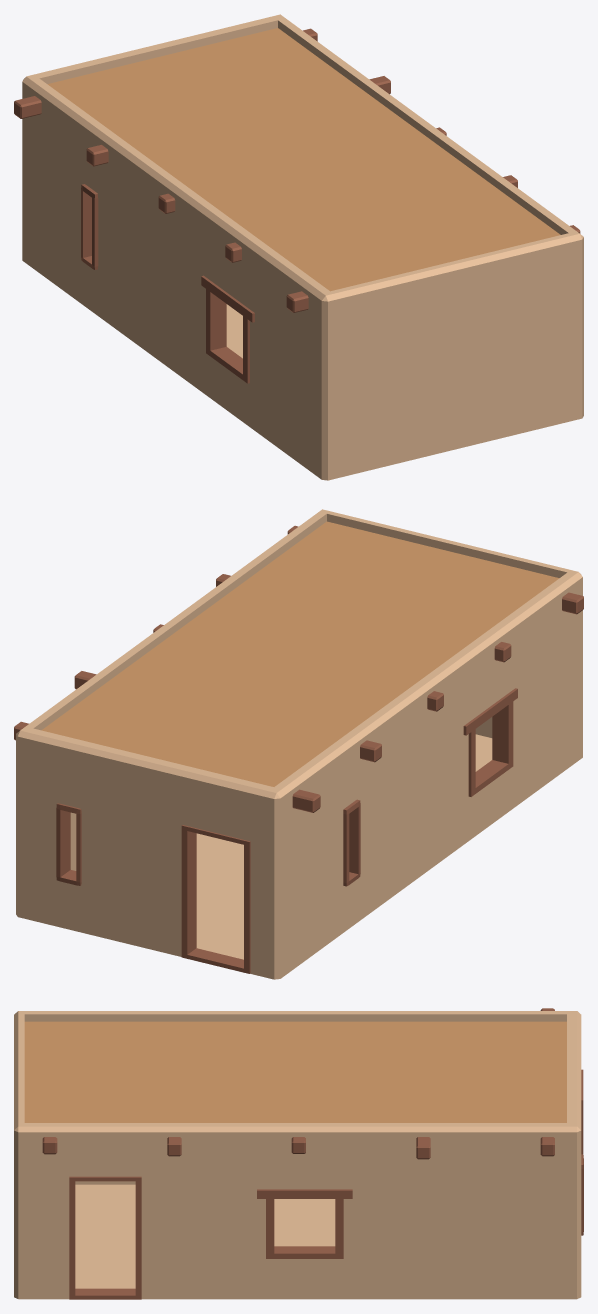
File: Medium Building Frame B.fbx
3 views of the same model, one above another, from view 1: azimuth 30°, elevation 25°; view 2: azimuth 150°, elevation 25°; view 3: azimuth 270°, elevation 25° (orthographic). The views are drawn at different scales.
Parts seen in each view (by area): view 1: Medium Building Frame B; view 2: Medium Building Frame B; view 3: Medium Building Frame B.
Boxes of the visible parts, x1,y1,x2,y2 form: Medium Building Frame B: (14, 14, 583, 480); Medium Building Frame B: (14, 509, 583, 979); Medium Building Frame B: (14, 1008, 583, 1299).
Size of the model in its own units: 571 by 328 by 993.
